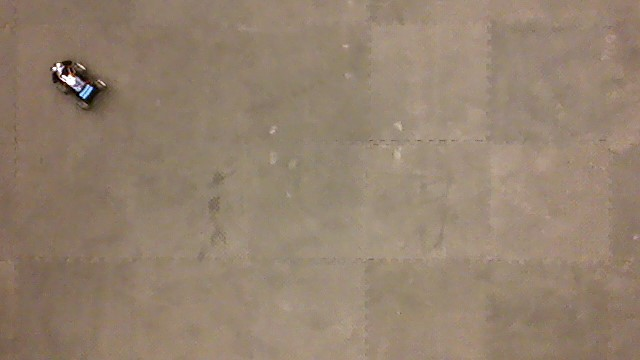Agent: (49, 58, 109, 112)
